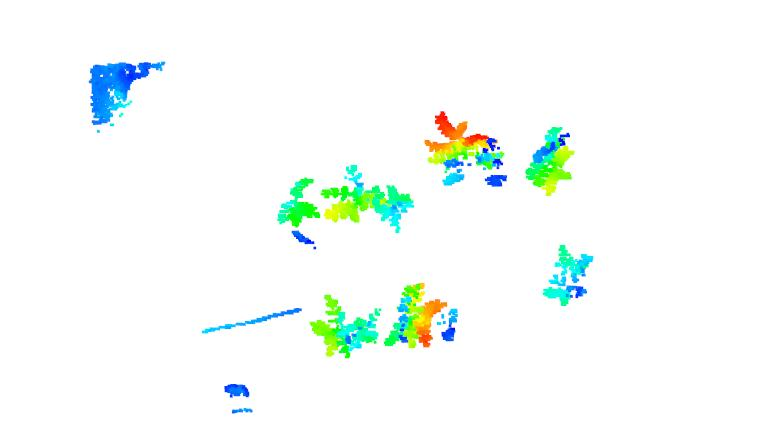chickpea: (419, 111, 506, 188), (318, 165, 413, 231), (382, 281, 457, 347), (308, 293, 385, 356), (521, 125, 576, 198), (542, 243, 596, 307), (271, 173, 322, 226)
